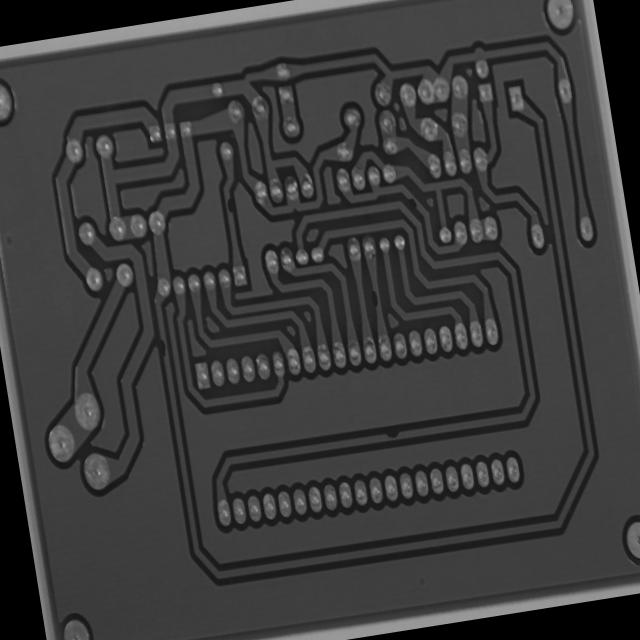mouse_bite: (156, 332, 172, 364), (369, 284, 385, 314), (381, 426, 403, 446), (221, 193, 236, 220), (406, 192, 422, 214)
